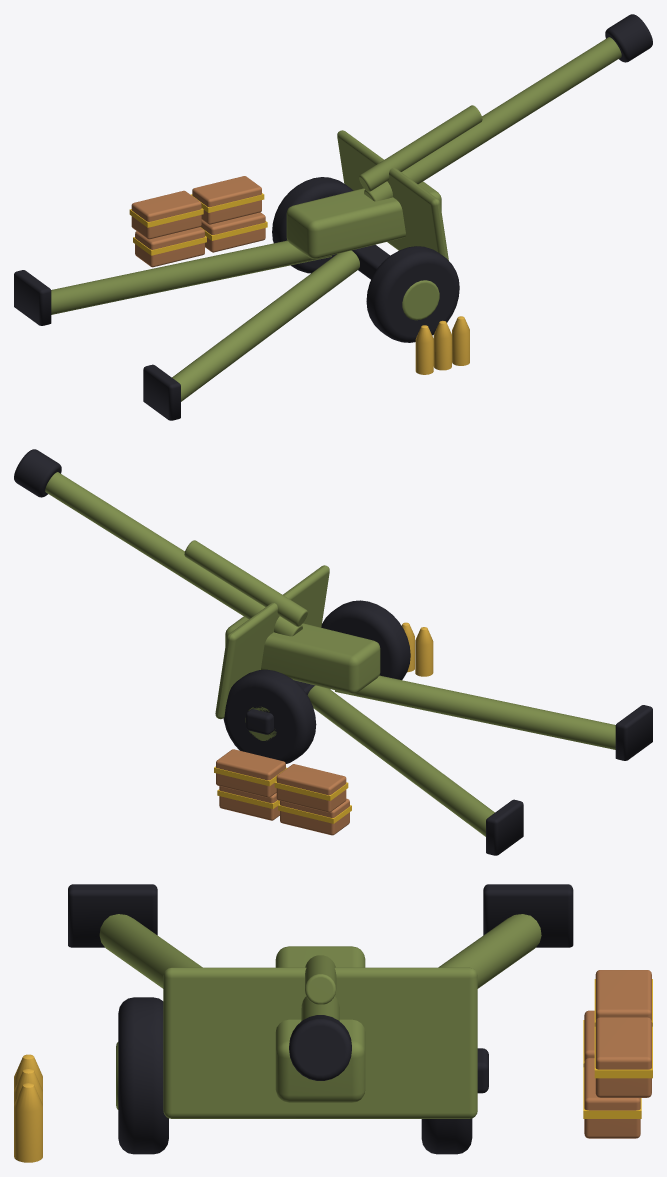
The model's file is howitzer.glb.
The picture shows the model from 3 angles, top to bottom: view 1: azimuth 30°, elevation 25°; view 2: azimuth 150°, elevation 25°; view 3: azimuth 270°, elevation 25°; orthographic projection. The views are drawn at different scales.
Parts seen in each view (by area): view 1: howitzer, barrel.001; view 2: howitzer, barrel.001; view 3: howitzer, barrel.001.
Boxes of the visible parts, x1,y1,x2,y2 form: howitzer: (14,130,469,420); barrel.001: (359,14,652,201); howitzer: (214,565,652,855); barrel.001: (14,449,307,636); howitzer: (14,884,652,1162); barrel.001: (289,955,351,1080).
Size of the model in its own units: 9.19 by 3.39 by 5.69.
1 material, 1 textured.
